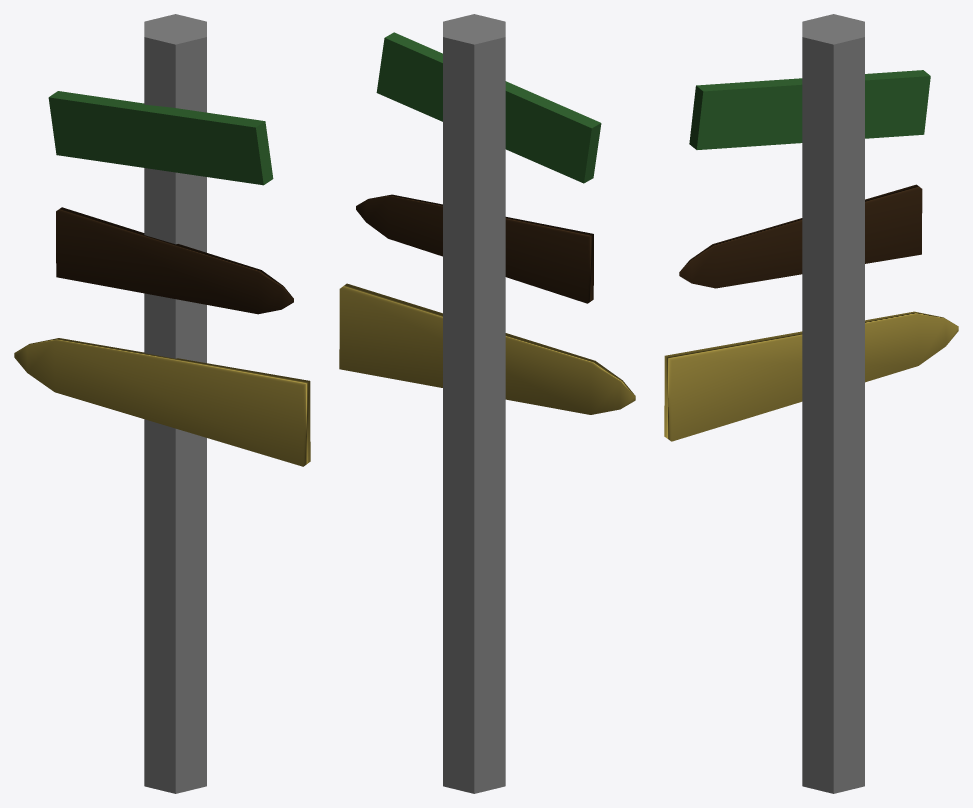
Rendered from ssgn.fbx.
The picture shows the model from 3 angles, left to right: view 1: azimuth 30°, elevation 25°; view 2: azimuth 210°, elevation 25°; view 3: azimuth 270°, elevation 25°; orthographic projection.
Visible parts, largest first — view 1: pCylinder1, pCube2, pCube3, pCube1; view 2: pCylinder1, pCube2, pCube3, pCube1; view 3: pCylinder1, pCube2, pCube3, pCube1.
Part boxes in pixels (bbox=[...]): pCylinder1: bbox=[144, 14, 206, 793]; pCube2: bbox=[14, 338, 310, 466]; pCube3: bbox=[48, 91, 273, 185]; pCube1: bbox=[56, 207, 293, 314]; pCylinder1: bbox=[443, 14, 505, 793]; pCube2: bbox=[339, 283, 635, 414]; pCube3: bbox=[376, 32, 601, 183]; pCube1: bbox=[356, 194, 593, 303]; pCylinder1: bbox=[802, 14, 864, 793]; pCube2: bbox=[664, 311, 958, 441]; pCube3: bbox=[689, 70, 930, 149]; pCube1: bbox=[679, 184, 922, 288].
Bounding box in the file's own units: 1.26 × 5.91 × 2.1.
